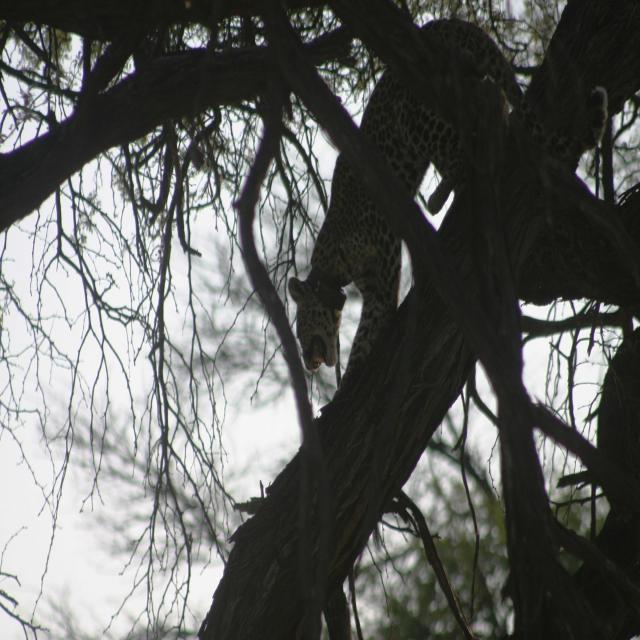Leopard: (268, 17, 572, 486)
